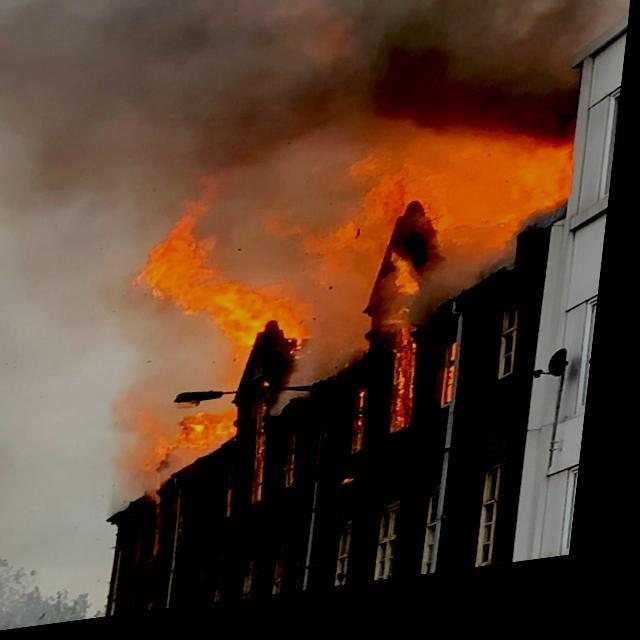Fire: (129, 180, 330, 392), (335, 162, 470, 316), (112, 398, 260, 494), (380, 318, 433, 447)
